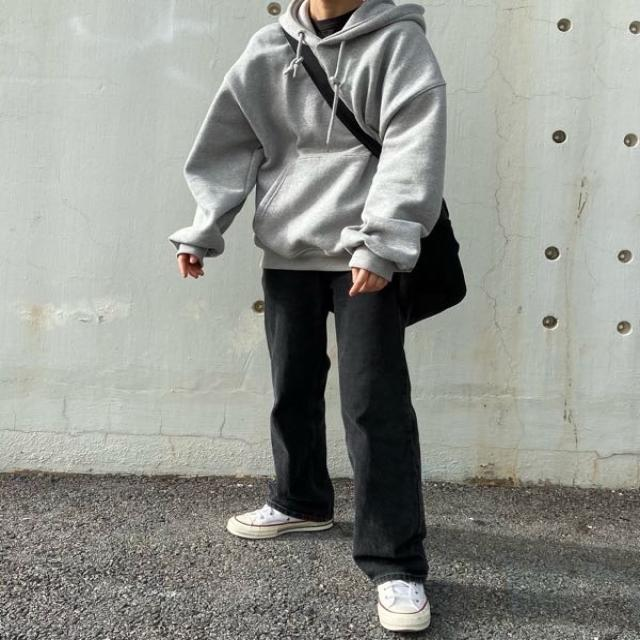denimpants: (259, 266, 431, 586)
hoodies: (166, 0, 446, 284)
